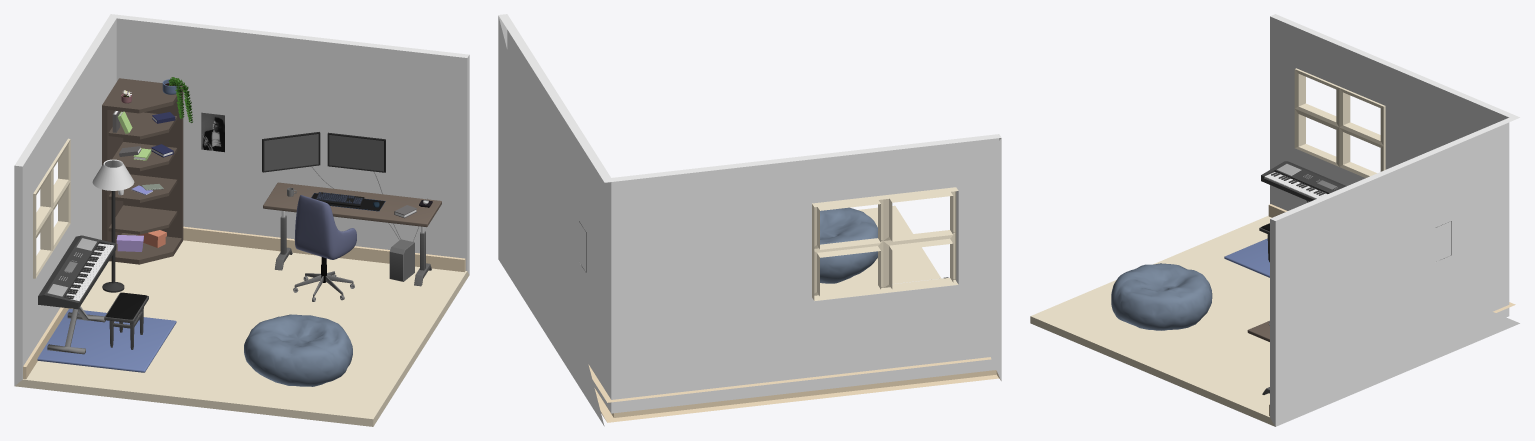
Rendered from Room-Final-Version-Export-3.glb.
3 views of the same model, side by side, from view 1: azimuth 30°, elevation 25°; view 2: azimuth 150°, elevation 25°; view 3: azimuth 270°, elevation 25° (orthographic). The views are drawn at different scales.
Visible parts, largest first — view 1: Structure, Stands, Sphere.001, Carpet, Legs, Chair, Piano, Monitor-Screen.001, Monitor-Screen, Lamp, Piano-Chair-Sit, PC (+6 smaller); view 2: Structure, Sphere.001; view 3: Structure, Sphere.001, Piano, Carpet, White-Keys.
Part boxes in pixels (x1,y1,x2,y2): Structure: (14,14,469,426); Stands: (102,78,183,264); Sphere.001: (244,314,352,386); Carpet: (37,308,176,372); Legs: (263,182,441,286); Chair: (293,195,356,301); Piano: (38,235,116,354); Monitor-Screen.001: (327,132,385,172); Monitor-Screen: (262,132,320,172); Lamp: (92,159,134,292); Piano-Chair-Sit: (104,292,148,349); PC: (389,239,414,281); Structure: (498,14,1001,426); Sphere.001: (820,207,877,283); Structure: (1030,14,1519,426); Sphere.001: (1111,263,1212,330); Piano: (1261,161,1346,202); Carpet: (1224,238,1269,277); White-Keys: (1264,172,1327,198).
Size of the model in its own units: 4.32 by 2 by 4.32.
50 materials, 1 textured.
